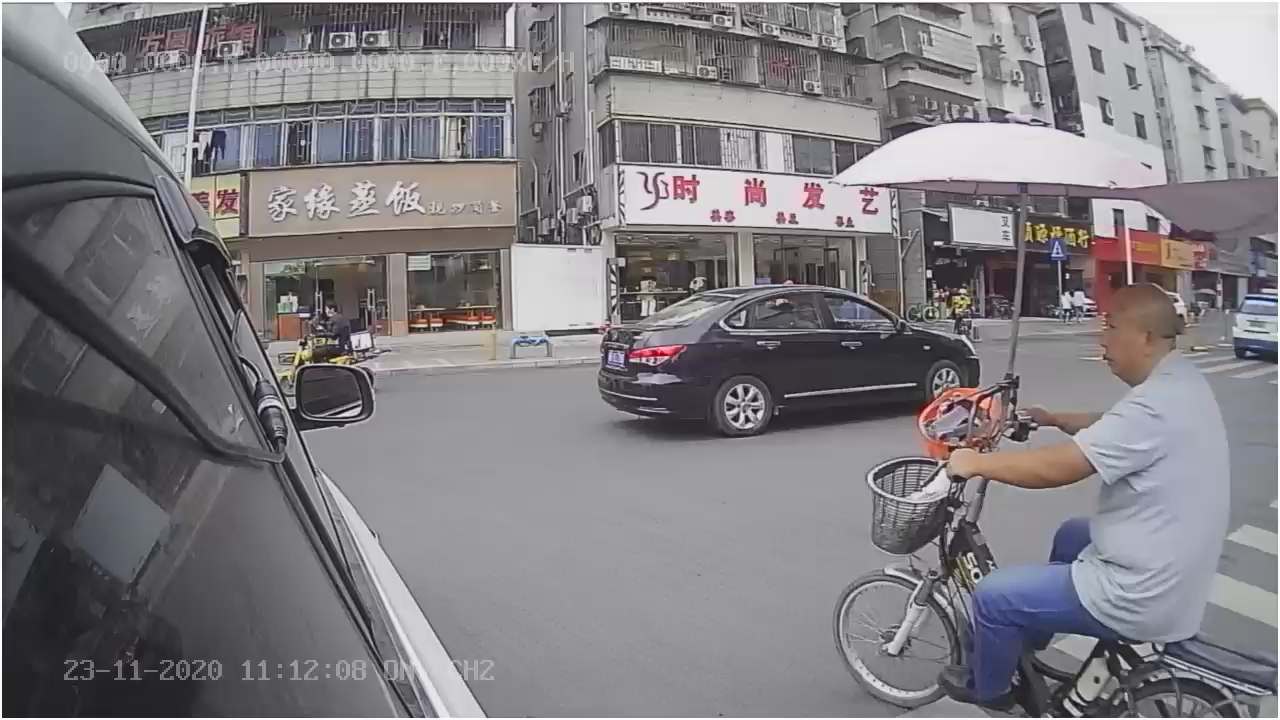person: (1019, 295, 1234, 638)
